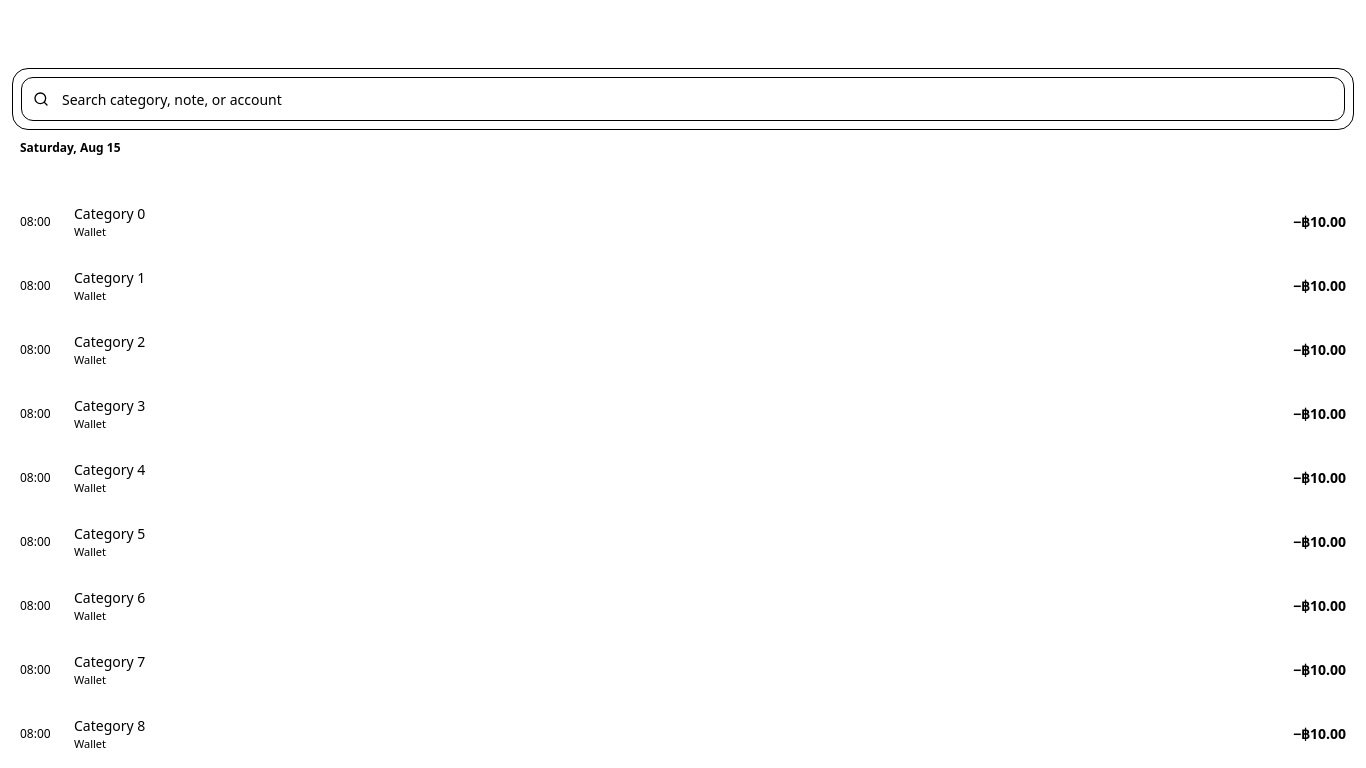
Scenario: TransactionHistoryView › virtualizes hundreds of rows while full search can reveal an older transaction
expect the text "Ancient travel" is not shown: met
In the search field named "Search transaction history": [683, 99] box [21,77,1345,121], type "ancient"
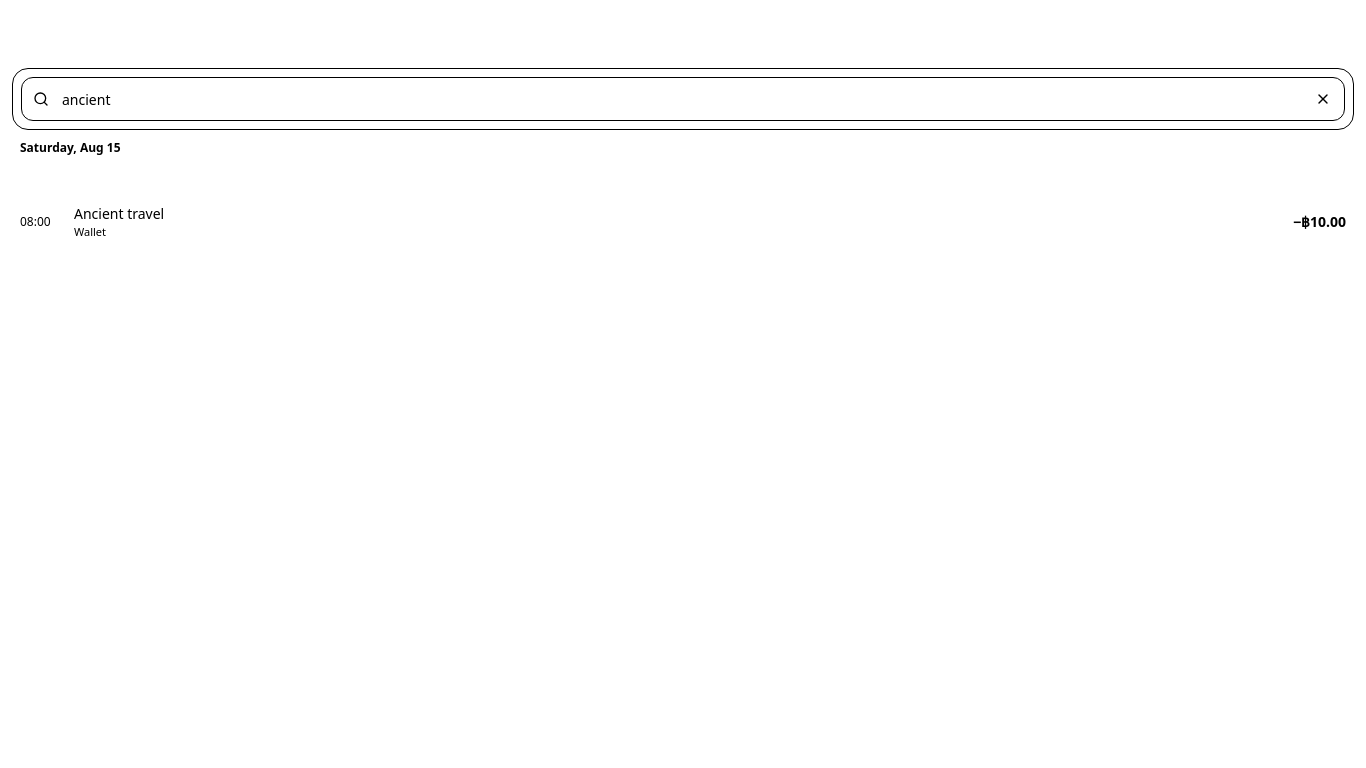
expect the text "Ancient travel" is shown: met, box [74,204,164,223]
